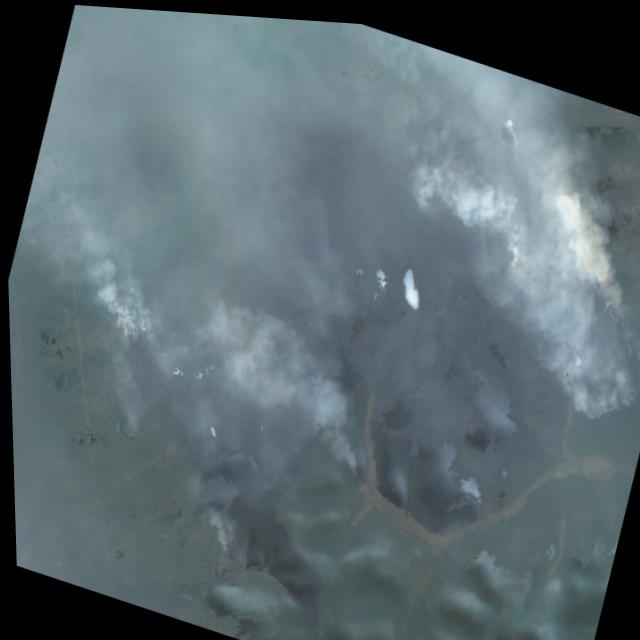fire: (490, 238, 640, 432), (83, 293, 206, 471), (312, 408, 382, 498), (189, 512, 252, 595)
